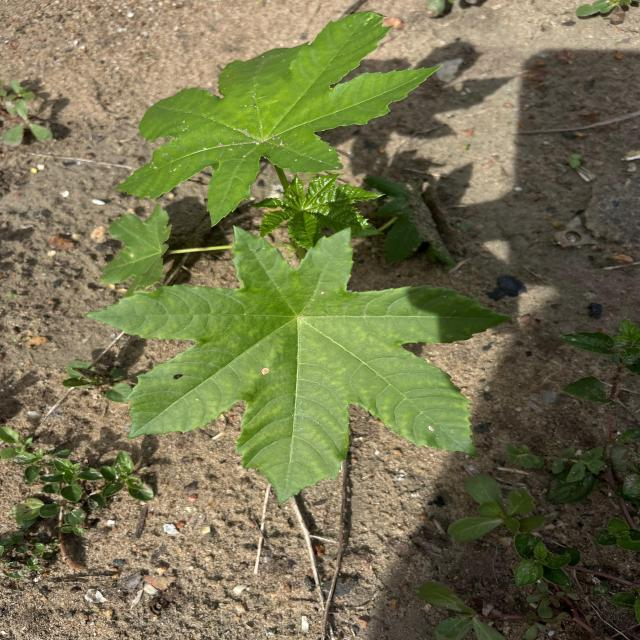Ricinus communis linn: (79, 218, 518, 510), (111, 8, 446, 230)
